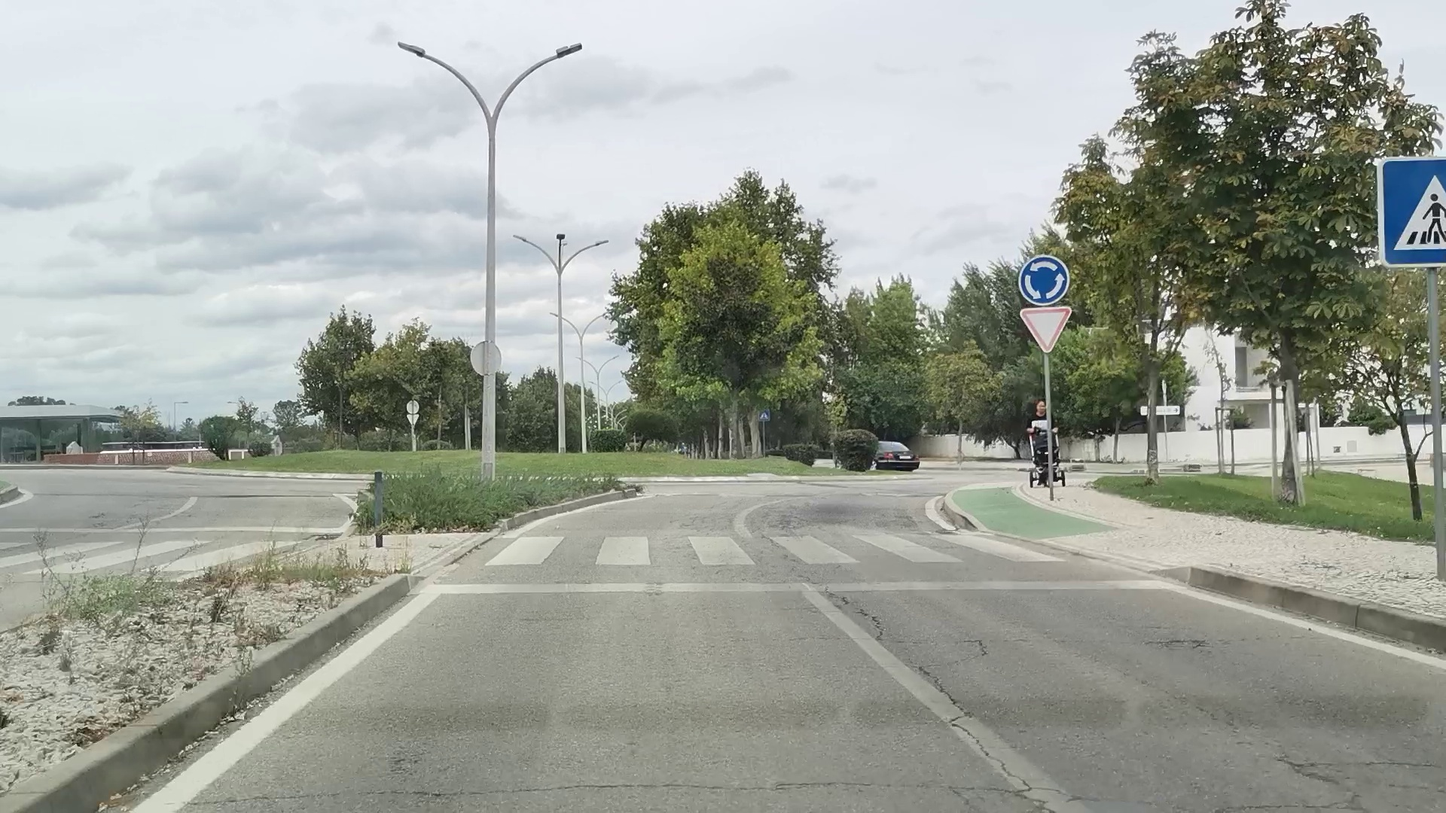Stairs: (482, 531, 1056, 568), (0, 531, 310, 578)
